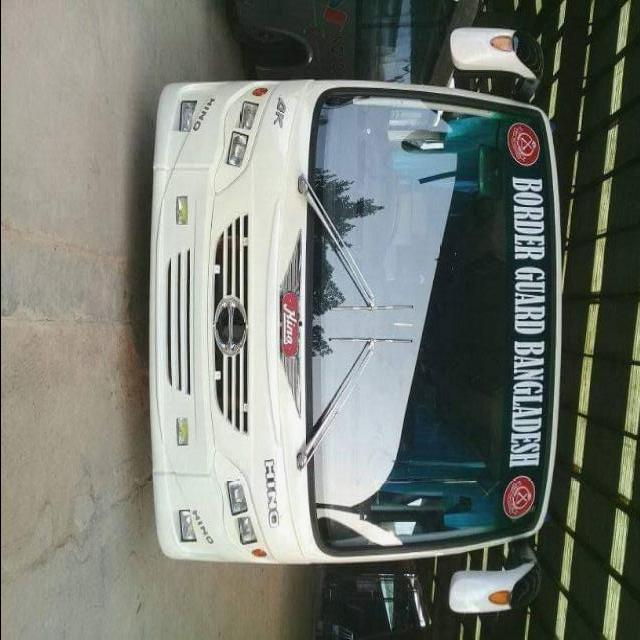bus: (148, 25, 567, 618)
